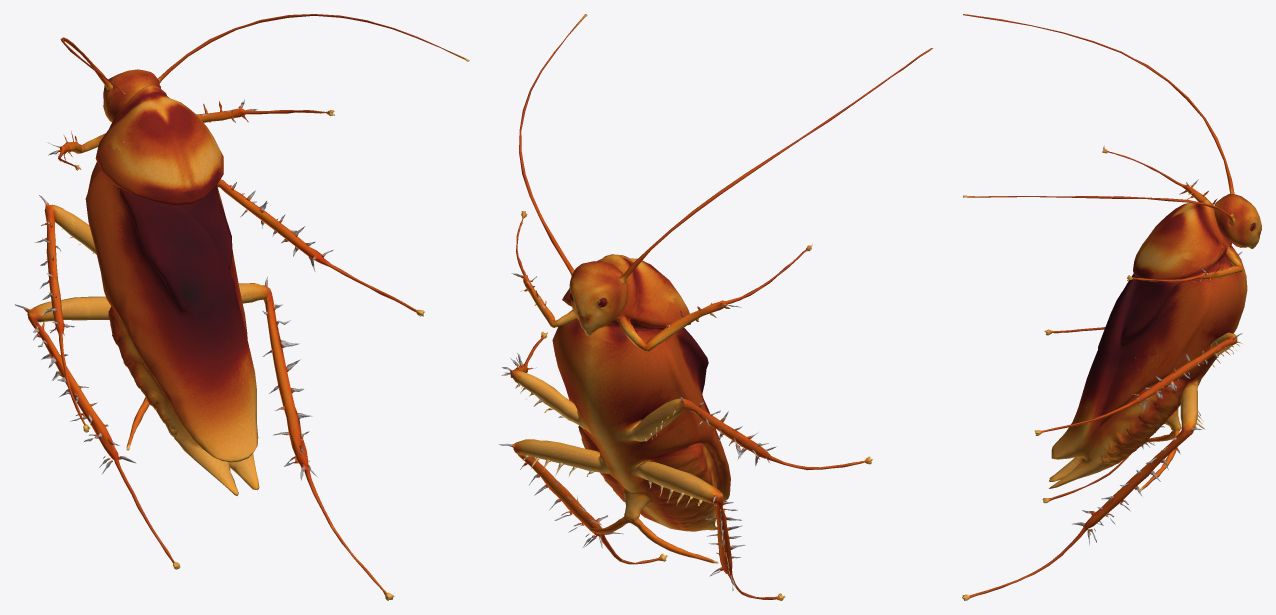
File: cockroach_clean.glb
3 views of the same model, side by side, from view 1: azimuth 30°, elevation 25°; view 2: azimuth 150°, elevation 25°; view 3: azimuth 270°, elevation 25° (orthographic). The views are drawn at different scales.
Visible parts, largest first — view 1: CockroachMesh; view 2: CockroachMesh; view 3: CockroachMesh.
Boxes of the visible parts, x1,y1,x2,y2 form: CockroachMesh: (15, 14, 469, 600); CockroachMesh: (499, 14, 933, 600); CockroachMesh: (962, 14, 1261, 600).
Bounding box in the file's own units: 0.6321 × 1 × 0.5695.
Materials: 1 (1 with a texture image).
